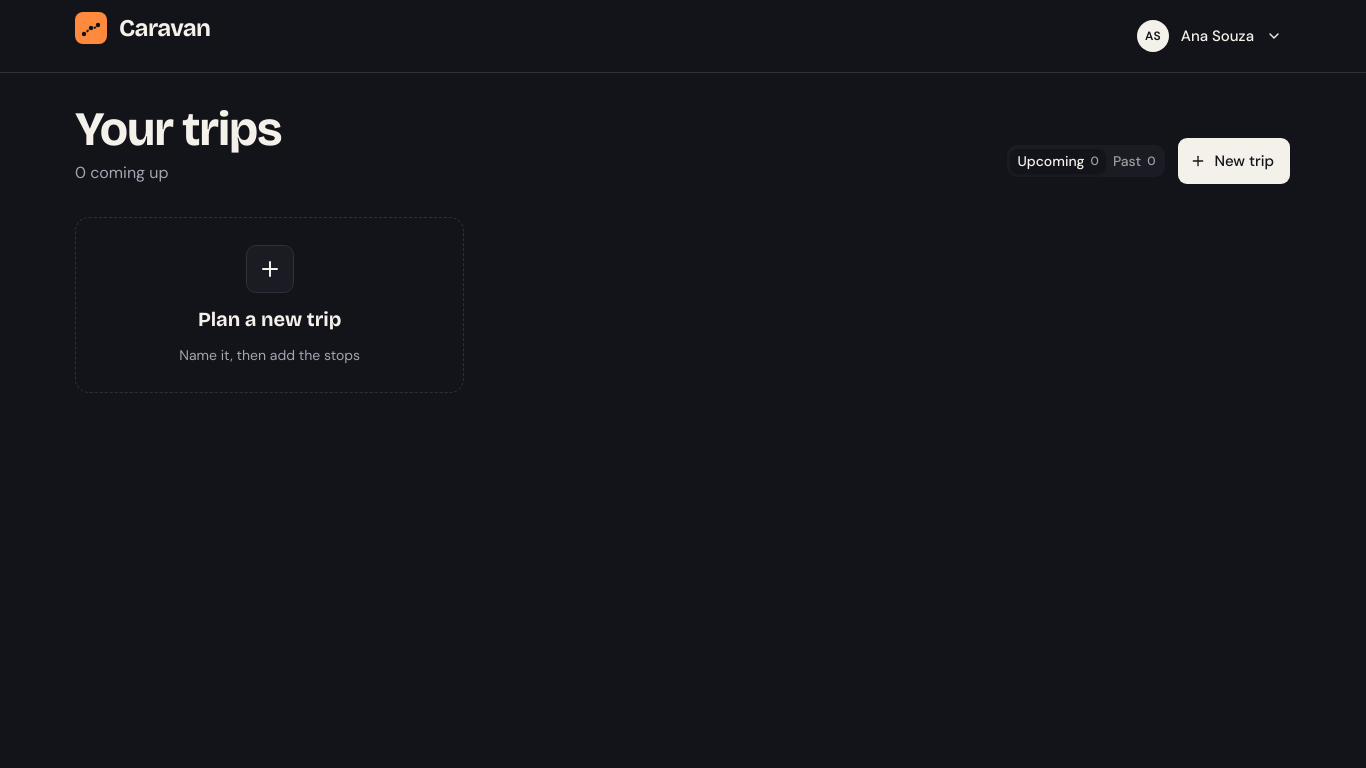
the new trip dialog › opens from the new trip card and closes on Escape
The image size is (1366, 768).
Expected: the tab "Upcoming 0" is shown, [1010, 148, 1106, 174]
Click the button "Plan a new trip": x=270, y=305 [75, 217, 464, 393]
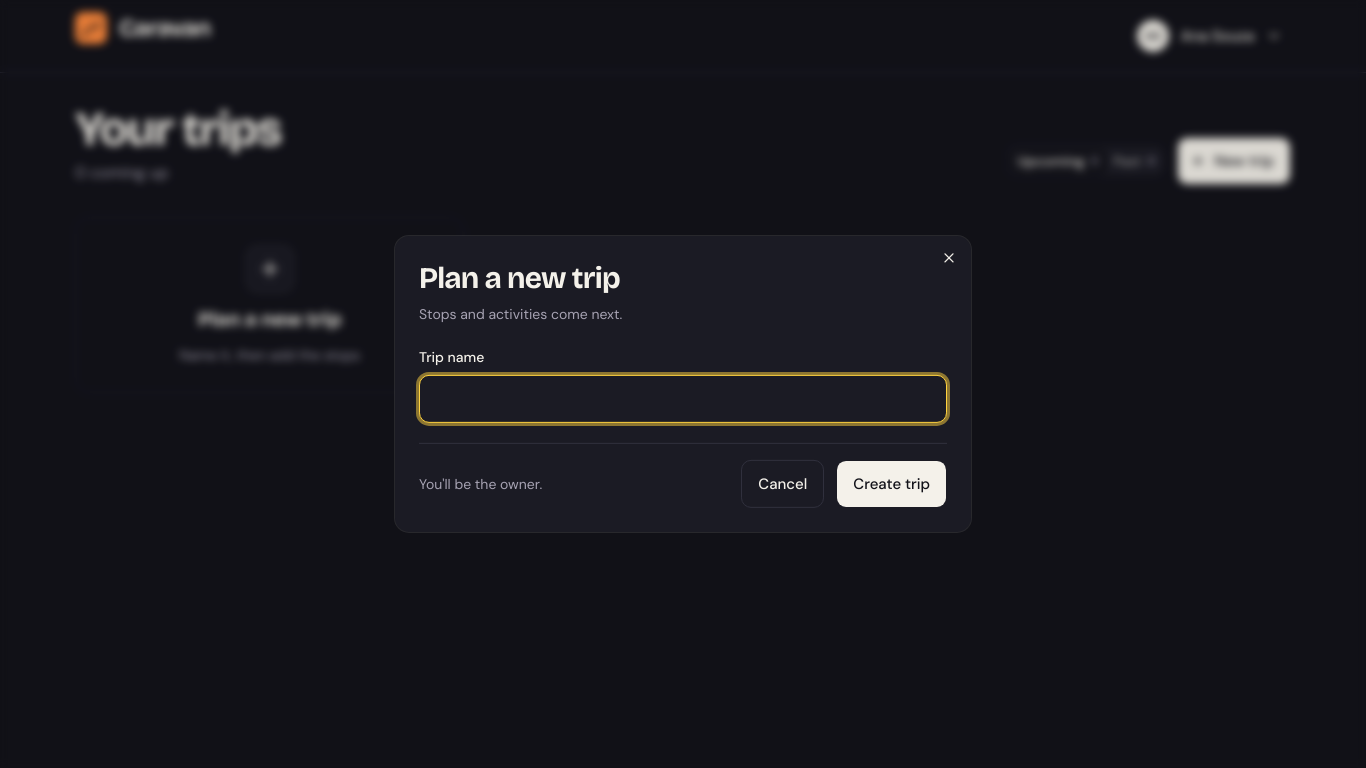
Press Escape
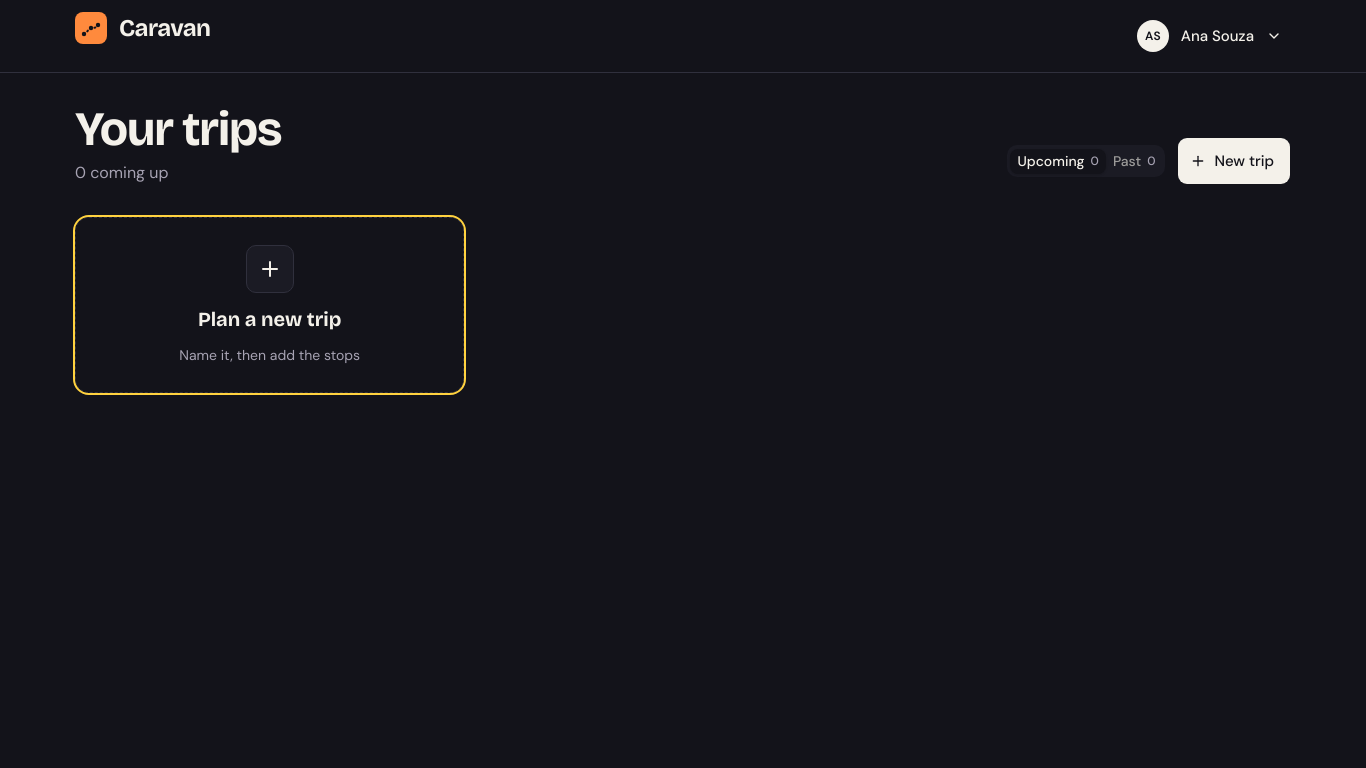
Expected: the dialog is gone
